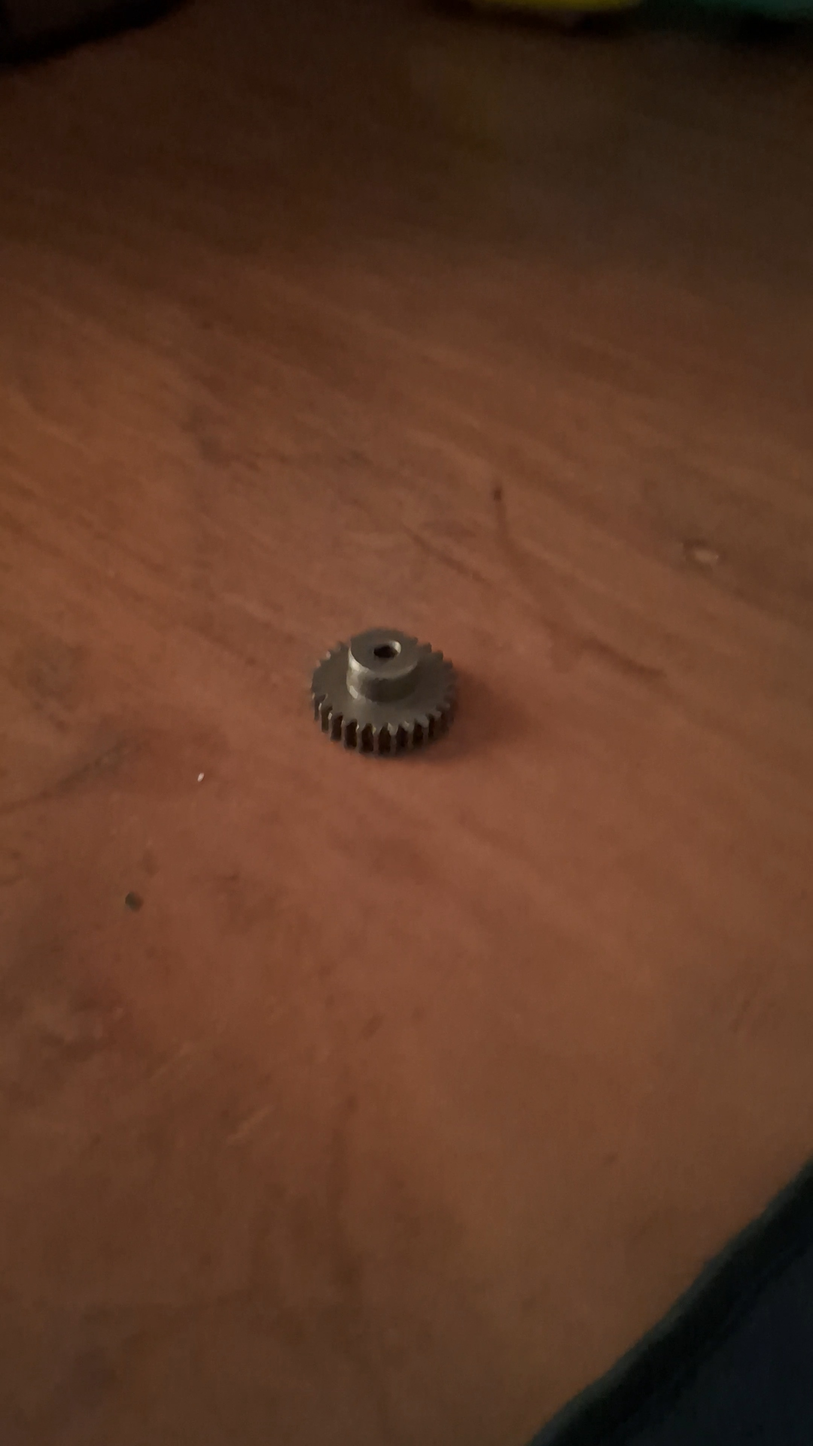spur gear: (312, 628, 455, 755)
